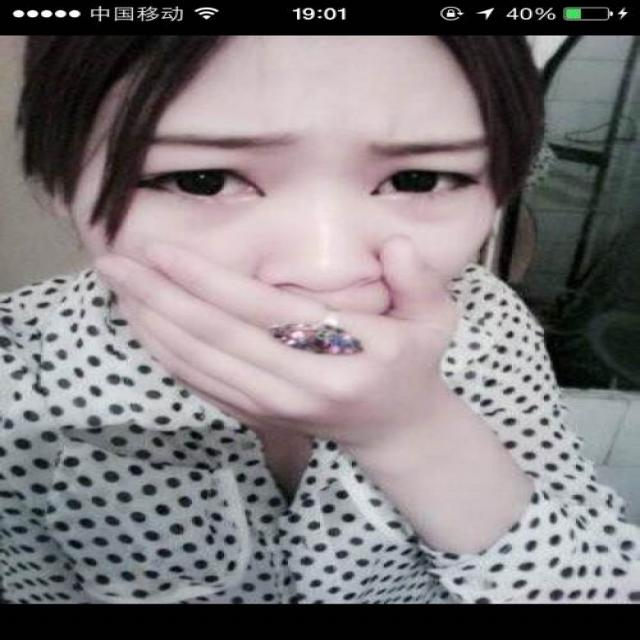nomask: (81, 10, 495, 398)
